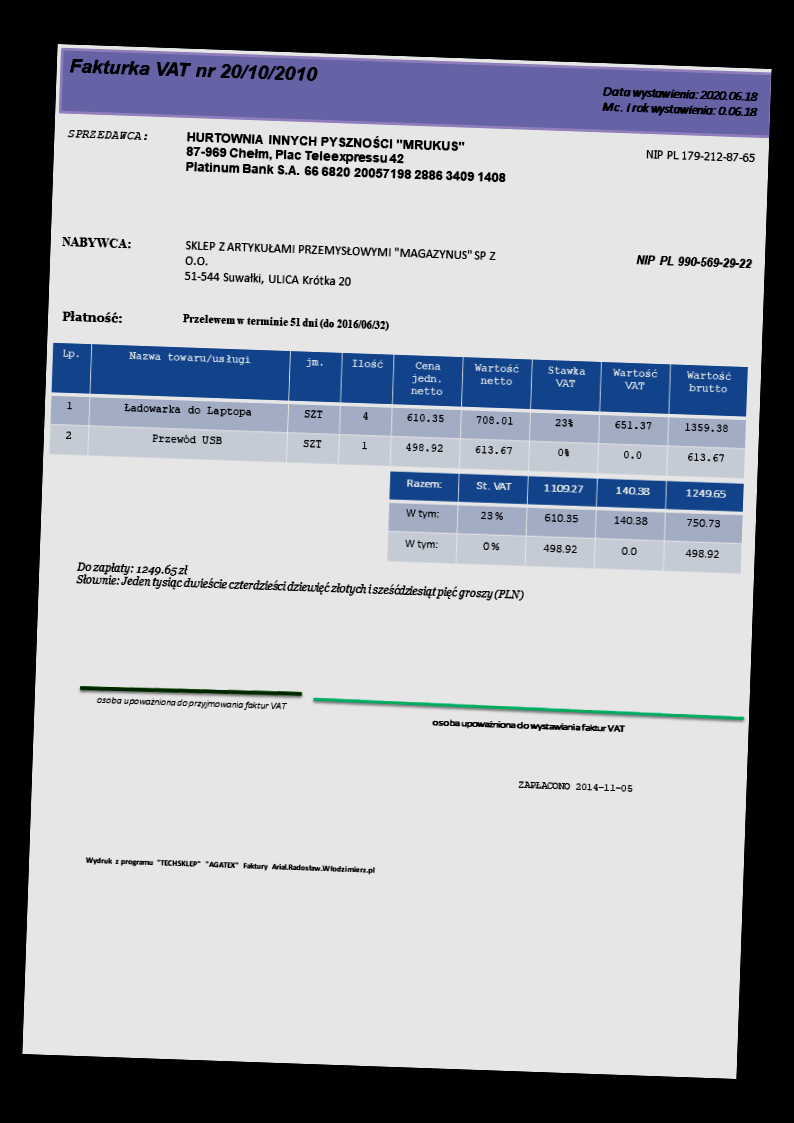Table: (47, 340, 749, 480), (385, 469, 745, 575)
TextBox: (73, 558, 527, 604), (183, 127, 510, 188), (183, 238, 496, 294), (66, 55, 320, 86), (83, 853, 379, 877), (598, 83, 764, 119), (180, 310, 390, 333), (428, 715, 626, 736), (94, 693, 289, 714), (634, 251, 753, 272), (642, 145, 755, 166), (516, 778, 634, 794), (63, 125, 150, 143), (59, 233, 133, 251), (61, 307, 124, 325)
